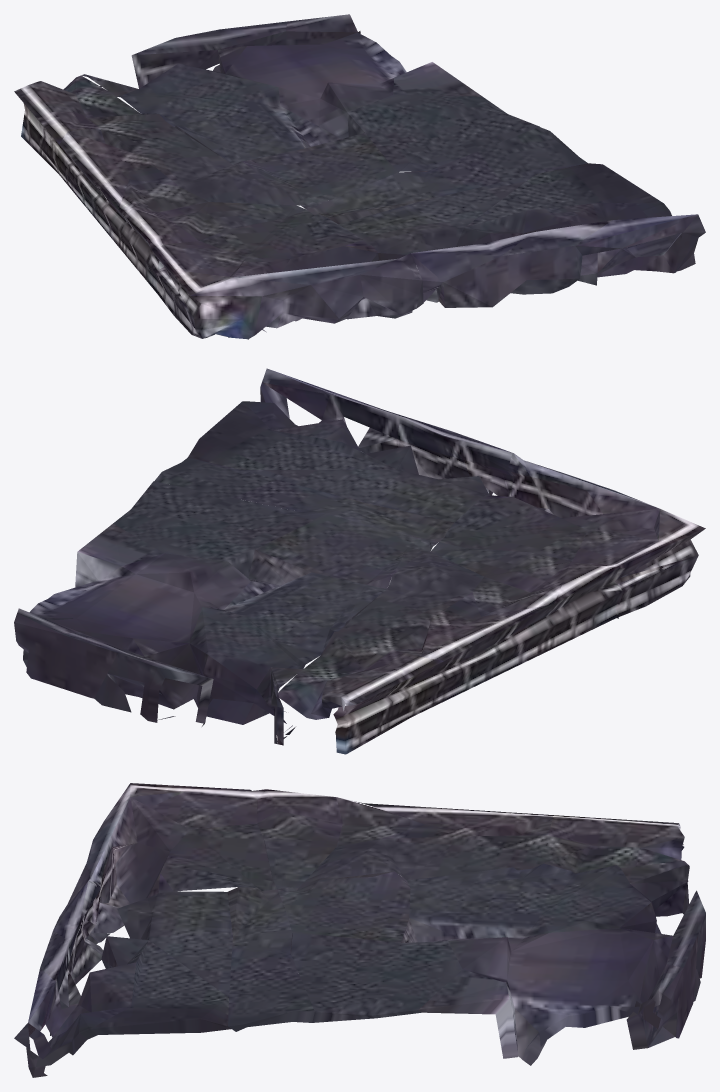
3 views of the same model, one above another, from view 1: azimuth 30°, elevation 25°; view 2: azimuth 150°, elevation 25°; view 3: azimuth 270°, elevation 25° (orthographic). The views are drawn at different scales.
Parts seen in each view (by area): view 1: Mesh_0; view 2: Mesh_0; view 3: Mesh_0.
Boxes of the visible parts, x1,y1,x2,y2 form: Mesh_0: (14,14,705,339); Mesh_0: (14,368,705,754); Mesh_0: (14,783,705,1077).
Bounding box in the file's own units: 26.67 × 3.77 × 31.91.
1 material, 1 textured.
